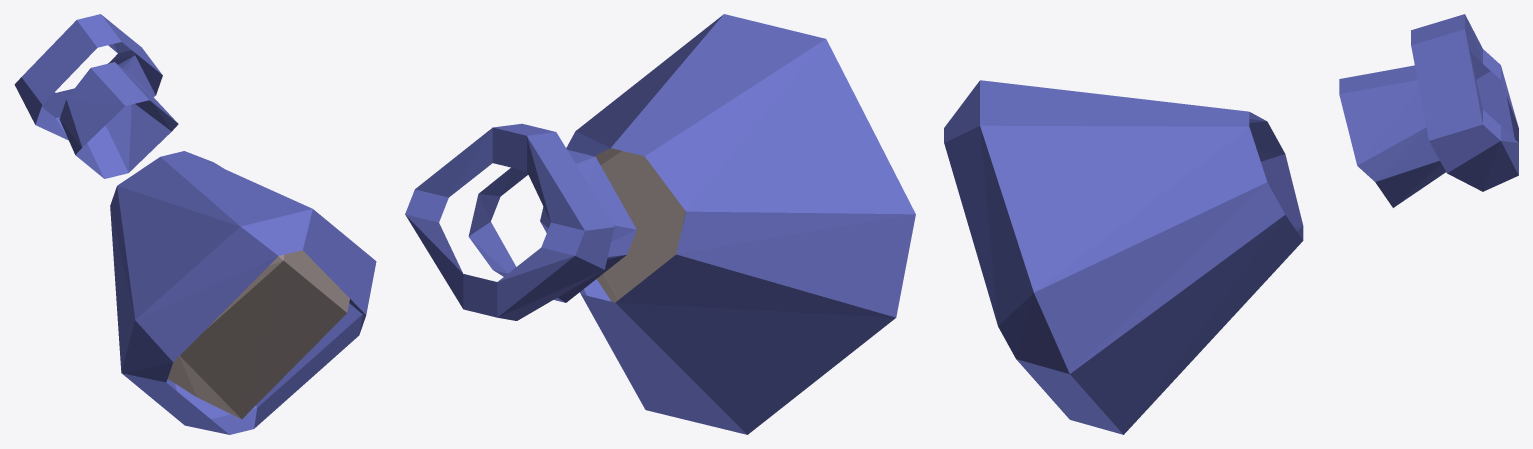
Rendered from npc_world_mourner_9_5.obj.
The picture shows the model from 3 angles, left to right: view 1: azimuth 30°, elevation 25°; view 2: azimuth 150°, elevation 25°; view 3: azimuth 270°, elevation 25°; orthographic projection. The views are drawn at different scales.
Bounding box in the file's own units: 0.1562 × 0.1875 × 0.25.
